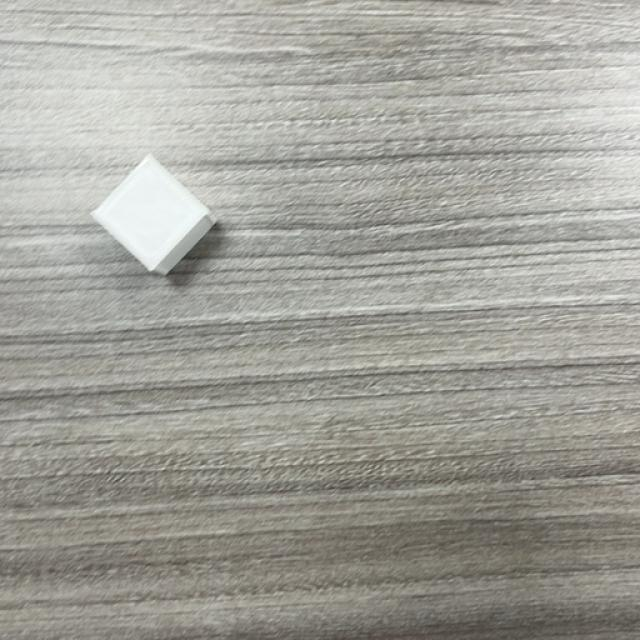Blanco: (90, 156, 218, 276)
